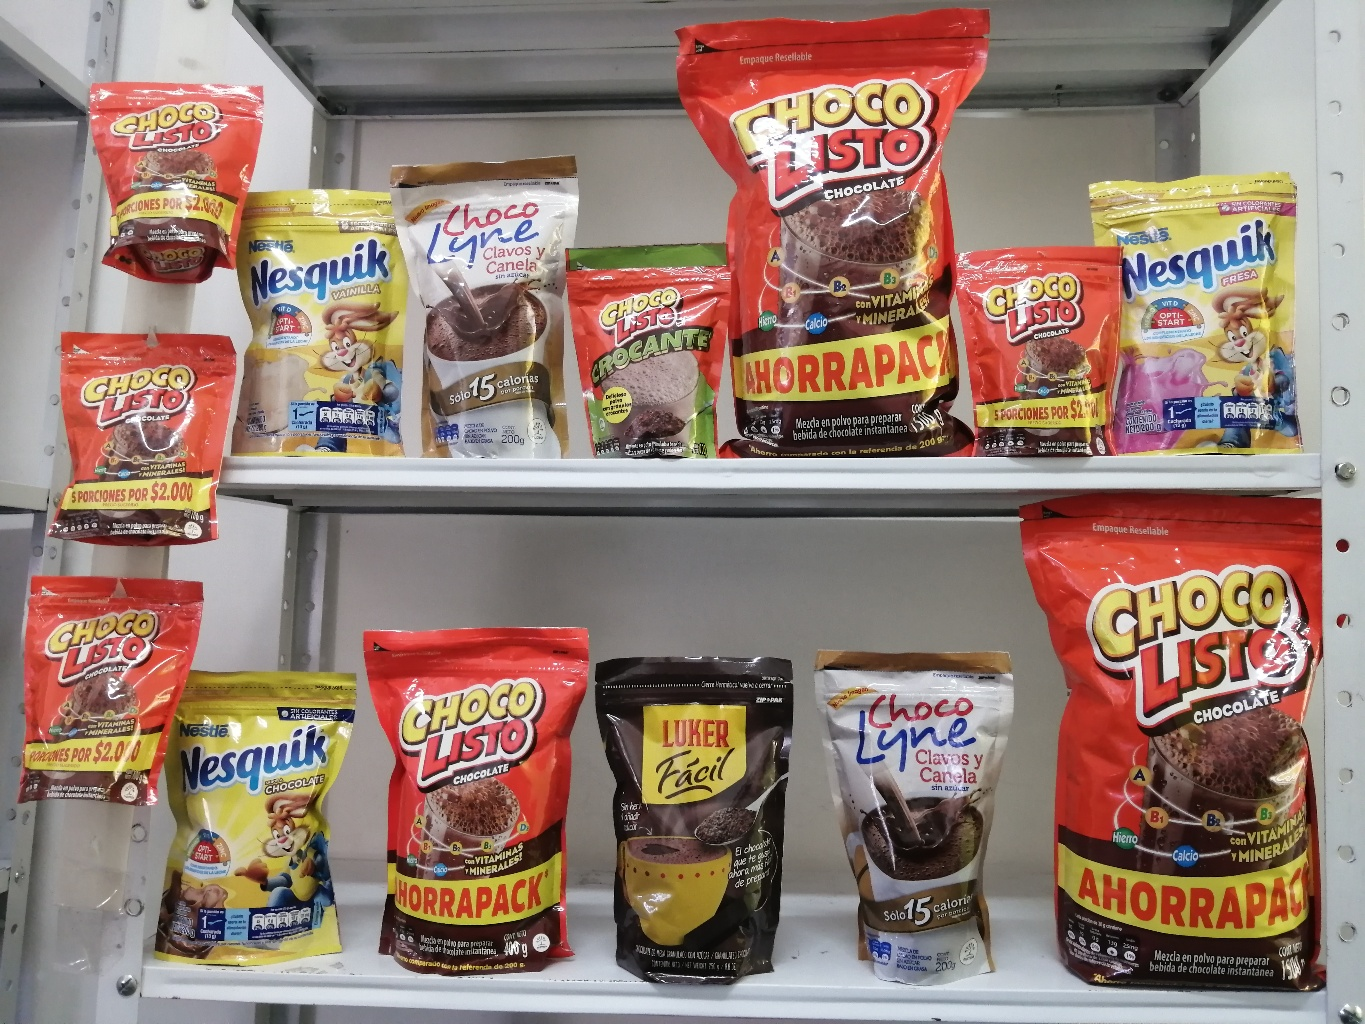COL0170102DYP10000: (558, 247, 736, 458)
COL0170103DYP1,500: (674, 10, 984, 459)
COL0170103DYP10000: (87, 77, 264, 287)
COL0170103DYP40000: (358, 625, 586, 975)
COL0170303DYP20000: (154, 664, 357, 962)
COL0170305DYP20000: (1085, 173, 1303, 454)
COL0170306DYP20000: (216, 175, 406, 460)
